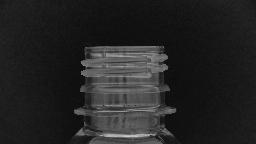No Cap: (68, 40, 180, 120)
